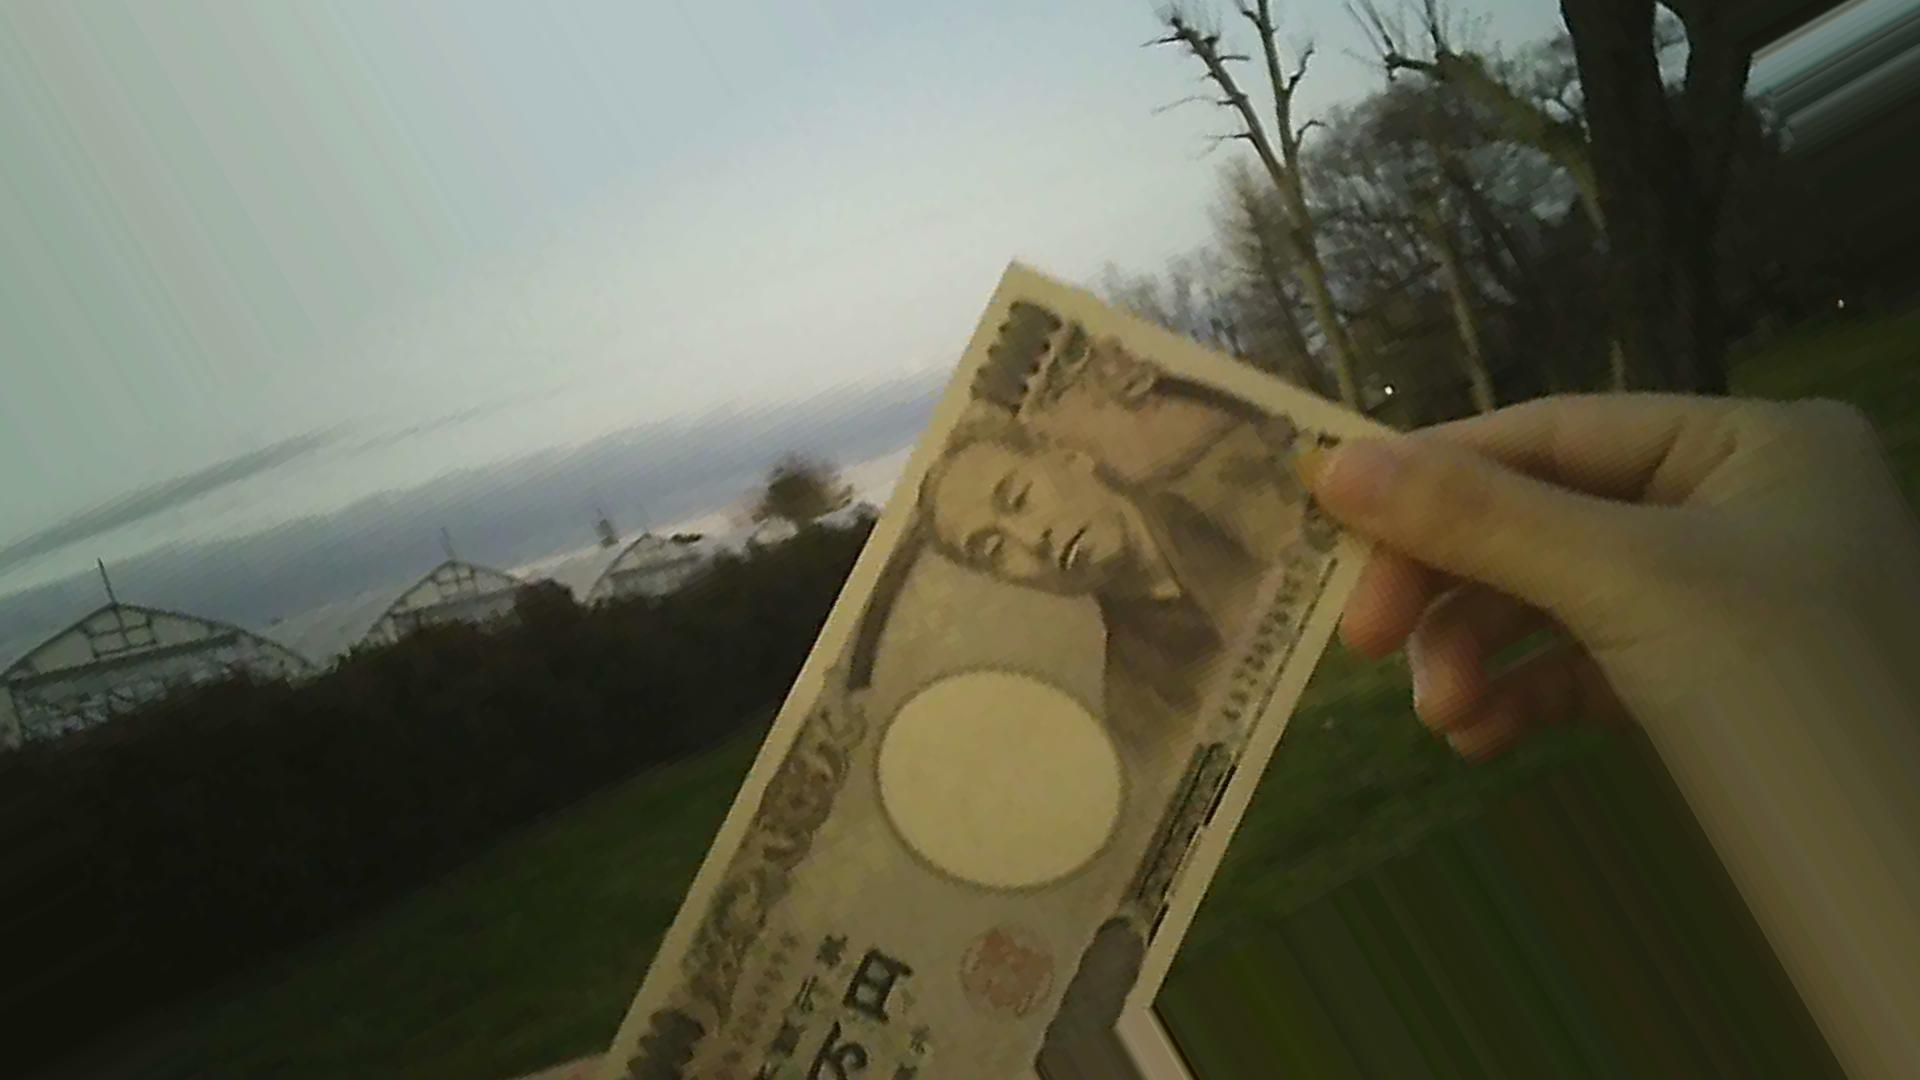10,000 Yen: (604, 248, 1367, 1076)
